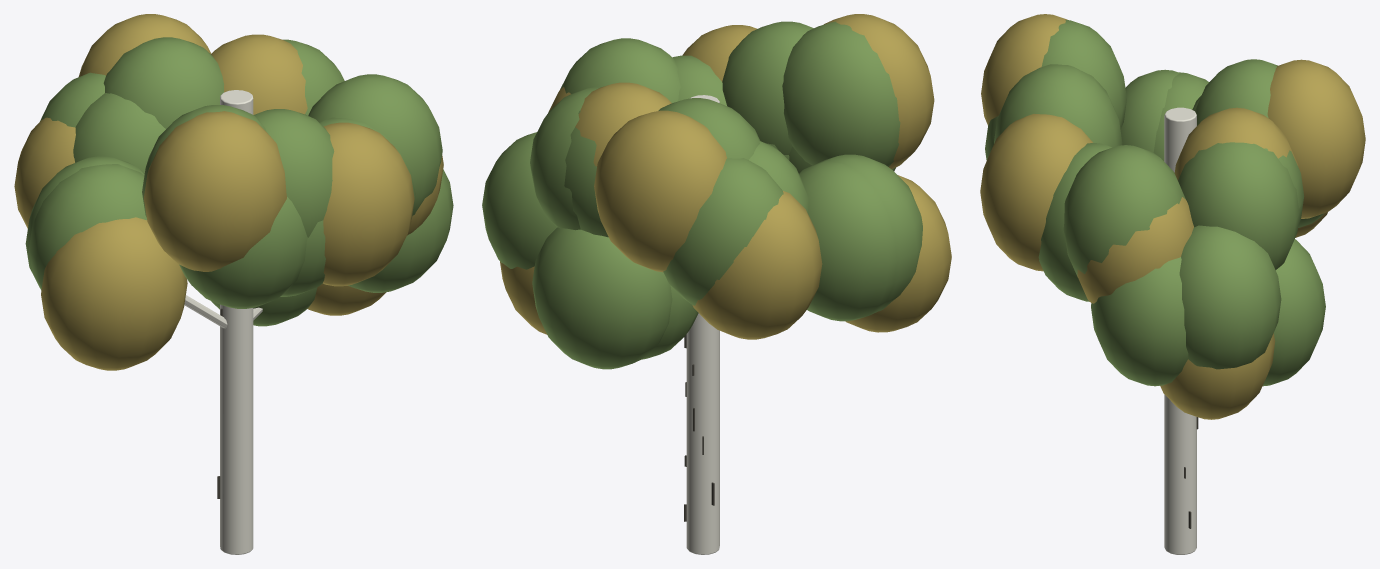
File: Tree_Birch_Detailed_01_Detailed.fbx
The picture shows the model from 3 angles, left to right: view 1: azimuth 30°, elevation 25°; view 2: azimuth 150°, elevation 25°; view 3: azimuth 270°, elevation 25°; orthographic projection. The views are drawn at different scales.
Parts seen in each view (by area): view 1: Tree_Birch_Detailed_01, Tree_Birch_Detailed_01_Trunk; view 2: Tree_Birch_Detailed_01, Tree_Birch_Detailed_01_Trunk; view 3: Tree_Birch_Detailed_01, Tree_Birch_Detailed_01_Trunk.
Part boxes in pixels (x1,y1,x2,y2): Tree_Birch_Detailed_01: [14, 14, 453, 498]; Tree_Birch_Detailed_01_Trunk: [220, 90, 253, 554]; Tree_Birch_Detailed_01: [482, 14, 951, 521]; Tree_Birch_Detailed_01_Trunk: [686, 95, 719, 554]; Tree_Birch_Detailed_01: [980, 14, 1365, 528]; Tree_Birch_Detailed_01_Trunk: [1164, 107, 1196, 554].
Bounding box in the file's own units: 535 × 627 × 450.
